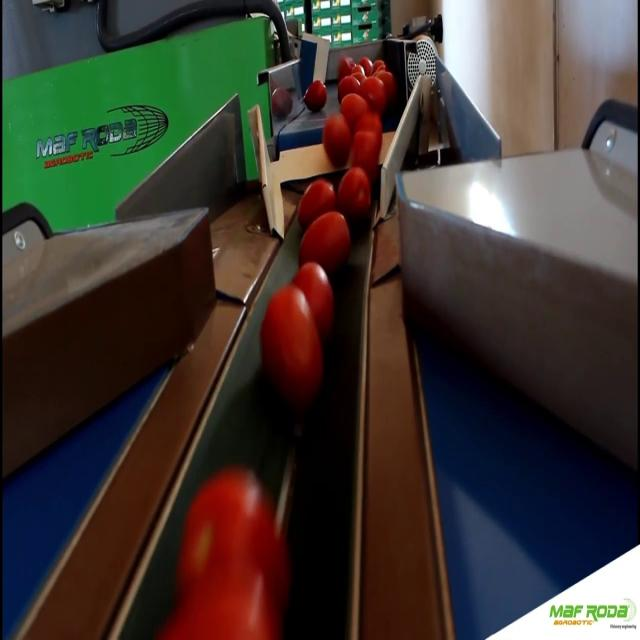Tomato: (183, 460, 291, 590), (169, 575, 282, 640), (262, 288, 324, 396), (286, 262, 334, 333), (300, 211, 348, 268), (339, 165, 373, 221), (322, 115, 352, 165), (298, 179, 335, 219), (355, 130, 382, 165), (340, 92, 368, 124), (304, 80, 330, 112), (360, 76, 386, 106), (337, 74, 360, 96), (380, 70, 394, 96), (338, 54, 354, 72), (394, 106, 396, 107)
